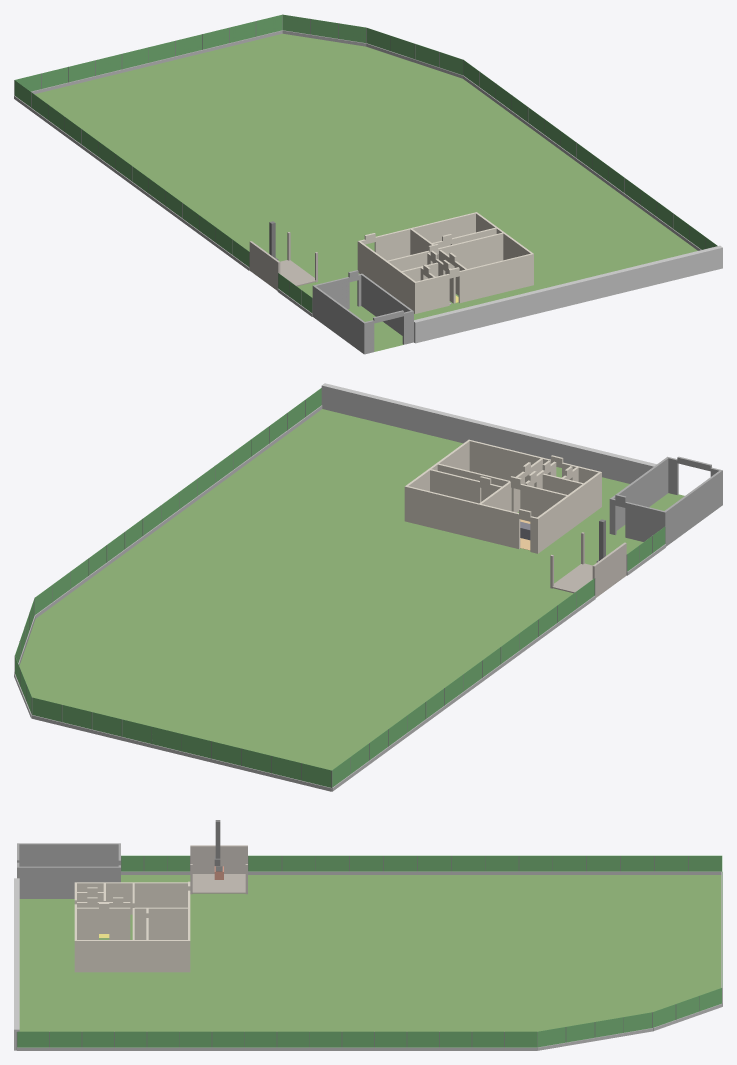
File: parcel-no-roof.glb
3 views of the same model, one above another, from view 1: azimuth 30°, elevation 25°; view 2: azimuth 150°, elevation 25°; view 3: azimuth 270°, elevation 25° (orthographic). The views are drawn at different scales.
Visible parts, largest first — view 1: Parcel.001, Street_Wall.001, Fence_4_mesh.001, Fence_1_mesh.001, Fence_Left_Back_mesh.001, House_Front_R.001, House_Back_R.001, House_Left.001, Garage_Left.001, Fence_2_mesh.001, Mid_Wall_R.001, Garage_Right.001 (+10 smaller); view 2: Parcel.001, Street_Wall.001, Fence_4_mesh.001, Fence_1_mesh.001, Fence_Left_Back_mesh.001, House_Back_R.001, House_Left.001, Garage_Left.001, House_Front_R.001, Garage_Right.001, Fence_1_concrete.001, Fence_4_concrete.001 (+8 smaller); view 3: Parcel.001, Fence_1_mesh.001, Fence_Left_Back_mesh.001, House_Right.001, Garage_Right.001, Garage_Left.001, House_Left.001, Fence_1_concrete.001, Fence_2_mesh.001, Fence_Left_Back_concrete.001, Right_Divider.001, SK_Back_Wall.001 (+7 smaller).
Part boxes in pixels (bbox=[...]): Parcel.001: bbox=[35, 33, 697, 351]; Street_Wall.001: bbox=[414, 245, 722, 343]; Fence_4_mesh.001: bbox=[15, 14, 282, 91]; Fence_1_mesh.001: bbox=[463, 60, 717, 249]; Fence_Left_Back_mesh.001: bbox=[14, 80, 249, 266]; House_Front_R.001: bbox=[458, 253, 531, 303]; House_Back_R.001: bbox=[374, 212, 475, 260]; House_Left.001: bbox=[357, 240, 416, 313]; Garage_Left.001: bbox=[312, 285, 366, 354]; Fence_2_mesh.001: bbox=[367, 28, 463, 75]; Mid_Wall_R.001: bbox=[437, 232, 503, 268]; Garage_Right.001: bbox=[361, 273, 413, 342]; Parcel.001: bbox=[19, 409, 684, 770]; Street_Wall.001: bbox=[321, 383, 656, 483]; Fence_4_mesh.001: bbox=[32, 697, 331, 787]; Fence_1_mesh.001: bbox=[35, 388, 321, 614]; Fence_Left_Back_mesh.001: bbox=[332, 578, 594, 787]; House_Back_R.001: bbox=[407, 486, 520, 548]; House_Left.001: bbox=[535, 471, 601, 553]; Garage_Left.001: bbox=[663, 470, 722, 546]; House_Front_R.001: bbox=[469, 440, 550, 482]; Garage_Right.001: bbox=[609, 456, 669, 534]; Fence_1_concrete.001: bbox=[35, 405, 322, 618]; Fence_4_concrete.001: bbox=[31, 715, 331, 791]; Parcel.001: bbox=[19, 875, 721, 1031]; Fence_1_mesh.001: bbox=[17, 1031, 536, 1047]; Fence_Left_Back_mesh.001: bbox=[248, 855, 721, 871]; House_Right.001: bbox=[74, 940, 190, 972]; Garage_Right.001: bbox=[17, 866, 120, 898]; Garage_Left.001: bbox=[17, 843, 120, 866]; House_Left.001: bbox=[74, 882, 187, 914]; Fence_1_concrete.001: bbox=[17, 1047, 536, 1050]; Fence_2_mesh.001: bbox=[537, 1012, 652, 1047]; Fence_Left_Back_concrete.001: bbox=[248, 871, 721, 874]; Right_Divider.001: bbox=[134, 907, 187, 939]; SK_Back_Wall.001: bbox=[190, 845, 247, 873].
Size of the model in its own units: 36.15 by 5.5 by 61.33.
